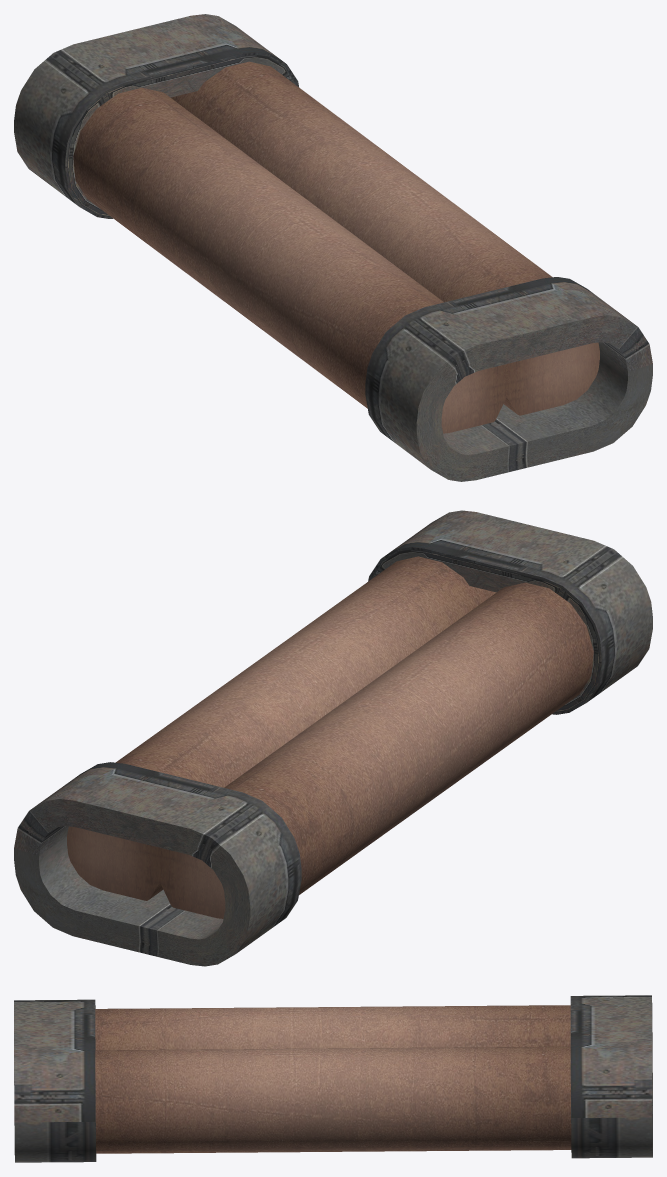
File: static.fbx
3 renders of one model, top to bottom at view 1: azimuth 30°, elevation 25°; view 2: azimuth 150°, elevation 25°; view 3: azimuth 270°, elevation 25°, orthographic. The views are drawn at different scales.
Parts seen in each view (by area): view 1: Cylinder_1, Sweep; view 2: Cylinder_1, Sweep; view 3: Cylinder_1, Sweep.
Part boxes in pixels (bbox=[...]): Cylinder_1: bbox=[73, 61, 599, 433]; Sweep: bbox=[14, 14, 652, 481]; Cylinder_1: bbox=[67, 556, 593, 918]; Sweep: bbox=[14, 510, 652, 966]; Cylinder_1: bbox=[95, 1005, 571, 1153]; Sweep: bbox=[14, 995, 652, 1162].
Bounding box in the file's own units: 77.56 × 44.46 × 229.
Materials: 2 (2 with a texture image).
